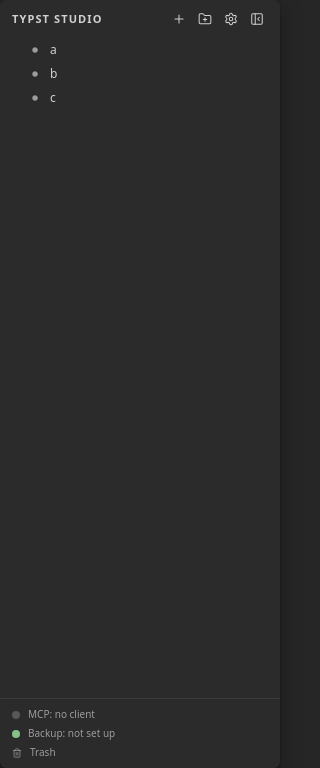
Scenario: Sidebar delete menu and dialogs › right-clicking inside a multi-selection offers one bulk delete and hides Rename and Move
Click the button with test id "workspace-a". click: (35, 50)
box: [8,38,272,62]
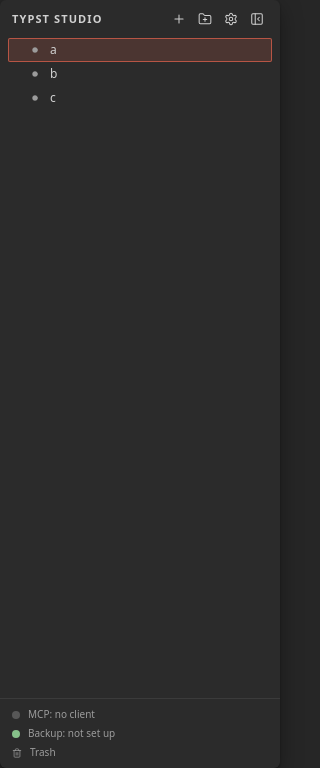
Click the button with test id "workspace-b". click: (35, 74)
box: [8,62,272,86]
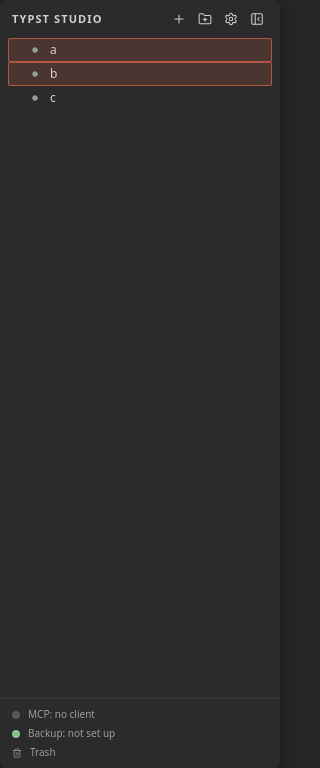
Right-click the button with test id "workspace-b" at (35, 74), box [8,62,272,86]
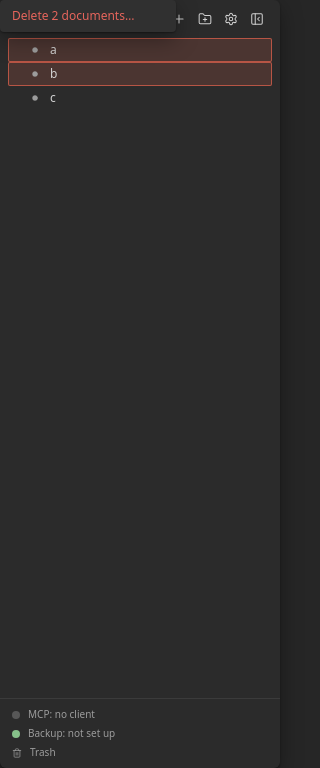
Expected: the button "Delete 2 documents…" is shown, [4,4,172,28]
